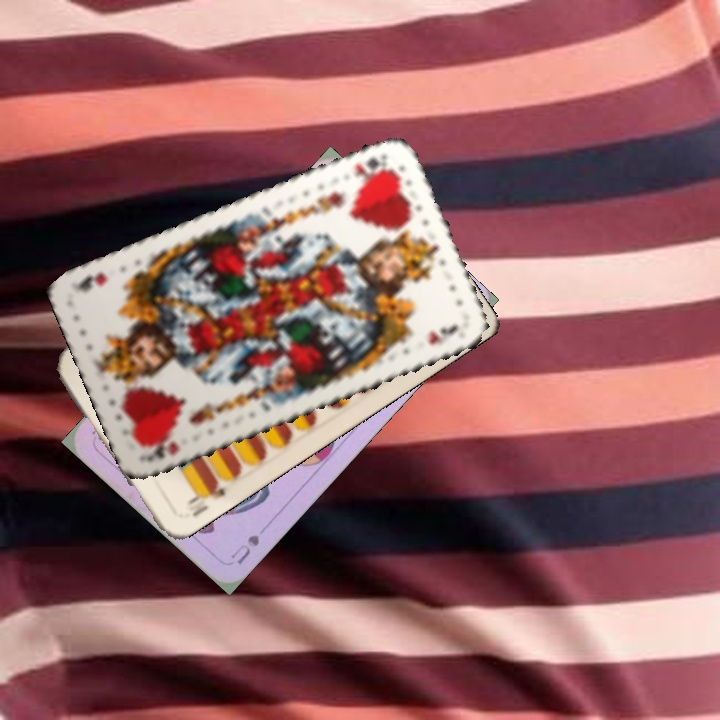E10: (183, 476, 228, 508)
HK: (350, 150, 396, 183), (143, 437, 182, 464)
SU: (227, 530, 262, 567)
